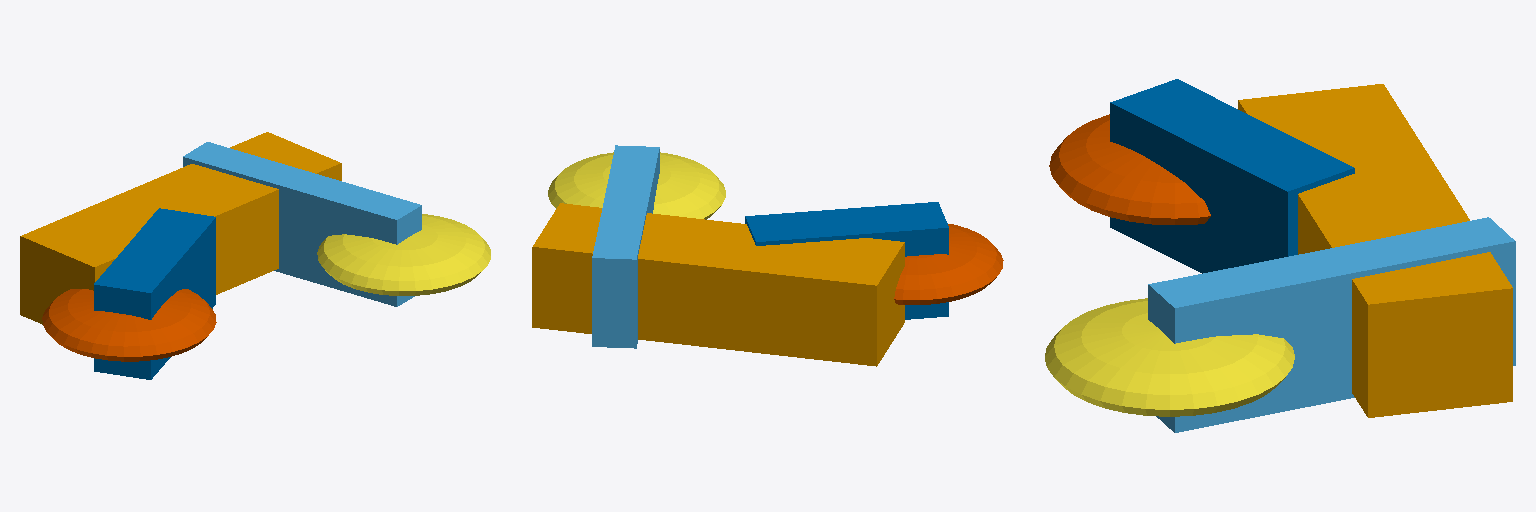
The robot description file, URDF, robot "sttw_source_contract":
<robot name="sttw_source_contract"><link name="chasis"><inertial><origin xyz="0 0 0" rpy="0 0 0" /><mass value="2.6709" /><inertia ixx="0.002576899237716139" iyy="0.006717399205490904" izz="0.007323301556792965" ixy="-0.0010382994717121627" ixz="-6.738700644442851e-05" iyz="-2.9357445489999094e-05" /></inertial><collision><origin xyz="0 0.01 0" rpy="0 -0 0.26200065305629355" /><geometry><box size="0.40000000000000002 0.12 0.10000000000000001" /></geometry></collision><visual><origin xyz="0 0.01 0" rpy="0 -0 0.26200065305629355" /><geometry><box size="0.40000000000000002 0.12 0.10000000000000001" /></geometry></visual></link><link name="frontfork"><inertial><origin xyz="0.015592999999999999 -0.028725000000000001 0" rpy="0 0 0" /><mass value="0.60059" /><inertia ixx="0.0006527803125101705" iyy="0.00031547968748982914" izz="0.0004482599999999998" ixy="3.1108087729306906e-06" ixz="0.0" iyz="0.0" /></inertial><collision><origin xyz="0.02 -0.059999999999999998 0" rpy="0 -0 0" /><geometry><box size="0.050000000000000003 0.29999999999999999 0.11" /></geometry></collision><visual><origin xyz="0.02 -0.059999999999999998 0" rpy="0 -0 0" /><geometry><box size="0.050000000000000003 0.29999999999999999 0.11" /></geometry></visual></link><joint name="steering_joint" type="revolute"><parent link="chasis" /><child link="frontfork" /><origin xyz="0.09672718033976957 0.020893999999999999 0" rpy="0 -0 0.43632916471688082" /><axis xyz="0 1 0" /><limit effort="1000" velocity="1000" lower="-0.8" upper="0.8" /><dynamics damping="0" friction="0" /></joint><link name="frontsuspension"><inertial><origin xyz="0 0.012836 0" rpy="0 0 0" /><mass value="0.13737" /><inertia ixx="6.8261e-05" iyy="6.1561e-05" izz="1.4167e-05" ixy="0.0" ixz="0.0" iyz="0.0" /></inertial><collision><origin xyz="0 0.02 0" rpy="0 -0 0" /><geometry><box size="0.029999999999999999 0.050000000000000003 0.10000000000000001" /></geometry></collision><visual><origin xyz="0 0.02 0" rpy="0 -0 0" /><geometry><box size="0.029999999999999999 0.050000000000000003 0.10000000000000001" /></geometry></visual></link><joint name="frontsuspension_fixed" type="fixed"><parent link="frontfork" /><child link="frontsuspension" /><origin xyz="0.02 -0.20268 0" rpy="0 -0 0" /></joint><link name="frontwheel"><inertial><origin xyz="0 0 0" rpy="0 0 0" /><mass value="0.47237" /><inertia ixx="0.0010678" iyy="0.0010677" izz="0.002032" ixy="0.0" ixz="0.0" iyz="0.0" /></inertial><collision><origin xyz="0 0 0" rpy="0 -0 0" /><geometry><mesh filename="ellipsoid_0.1_0.1_0.025.obj" /></geometry></collision><visual><origin xyz="0 0 0" rpy="0 -0 0" /><geometry><mesh filename="ellipsoid_0.1_0.1_0.025.obj" /></geometry></visual></link><joint name="frontwheel_joint" type="continuous"><parent link="frontsuspension" /><child link="frontwheel" /><origin xyz="0 0 0" rpy="0 0 -0.43632916471688082" /><axis xyz="0 0 1" /><limit effort="1000" velocity="1000" /><dynamics damping="0" friction="0" /></joint><link name="rearsuspension"><inertial><origin xyz="-0.11047 -0.091964000000000004 0" rpy="0 0 0" /><mass value="0.83342" /><inertia ixx="0.000932891239514924" iyy="0.001050602340954752" izz="0.001595099419530325" ixy="-0.0005954418866728583" ixz="4.176125784751369e-07" iyz="3.218152647424885e-07" /></inertial><collision><origin xyz="-0.080000000000000002 -0.070000000000000007 0" rpy="0 -0 0.7000001648141263" /><geometry><box size="0.22 0.070000000000000007 0.11" /></geometry></collision><visual><origin xyz="-0.080000000000000002 -0.070000000000000007 0" rpy="0 -0 0.7000001648141263" /><geometry><box size="0.22 0.070000000000000007 0.11" /></geometry></visual></link><joint name="rearsuspension_joint" type="revolute"><parent link="chasis" /><child link="rearsuspension" /><origin xyz="-0.020438000000000001 -0.034414 0" rpy="0 -0 0" /><axis xyz="0 0 1" /><limit effort="1000" velocity="1000" lower="-0.05" upper="0.05" /><dynamics damping="0" friction="0" /></joint><link name="rearwheel"><inertial><origin xyz="0 0 0" rpy="0 0 0" /><mass value="0.71956" /><inertia ixx="0.0011423999999999996" iyy="0.0011425999999999995" izz="0.002173799999999999" ixy="0.0" ixz="0.0" iyz="0.0" /></inertial><collision><origin xyz="0 0 0" rpy="0 -0 0" /><geometry><mesh filename="ellipsoid_0.1_0.1_0.025.obj" /></geometry></collision><visual><origin xyz="0 0 0" rpy="0 -0 0" /><geometry><mesh filename="ellipsoid_0.1_0.1_0.025.obj" /></geometry></visual></link><joint name="rearwheel_joint" type="continuous"><parent link="rearsuspension" /><child link="rearwheel" /><origin xyz="-0.14050000000000001 -0.11609 0" rpy="0 -0 0" /><axis xyz="0 0 1" /><limit effort="1000" velocity="1000" /><dynamics damping="0" friction="0" /></joint></robot>

--- What the picture shows (computed from the rendered views, not written in the file) ---
Views: 3 orthographic renders of the robot side by side, from view 1: azimuth 30°, elevation 25°; view 2: azimuth 150°, elevation 25°; view 3: azimuth 270°, elevation 25°.
Model sttw_source_contract with 6 links and 5 joints (2 revolute, 2 continuous, 1 fixed), rooted at chasis, posed every joint at zero.
Links seen in each view (by area): view 1: chasis, frontfork, rearsuspension, frontwheel, rearwheel; view 2: chasis, frontfork, rearsuspension, frontwheel, rearwheel; view 3: chasis, frontfork, rearsuspension, frontwheel, rearwheel.
Boxes of the visible links, left/top/right/bottom form: chasis: left=20, top=132, right=341, bottom=324; frontfork: left=183, top=142, right=421, bottom=306; rearsuspension: left=94, top=208, right=215, bottom=379; frontwheel: left=317, top=214, right=490, bottom=295; rearwheel: left=42, top=289, right=216, bottom=361; chasis: left=532, top=203, right=904, bottom=366; frontfork: left=592, top=145, right=659, bottom=348; rearsuspension: left=745, top=202, right=948, bottom=319; frontwheel: left=548, top=152, right=725, bottom=219; rearwheel: left=894, top=224, right=1003, bottom=304; chasis: left=1238, top=84, right=1512, bottom=417; frontfork: left=1148, top=217, right=1515, bottom=432; rearsuspension: left=1110, top=79, right=1354, bottom=273; frontwheel: left=1045, top=298, right=1294, bottom=416; rearwheel: left=1049, top=114, right=1210, bottom=224.
Size in the robot's own frame: 0.5614 by 0.3758 by 0.11 metres.
2 mesh visuals loaded from 1 distinct referenced files (1 OBJ).
